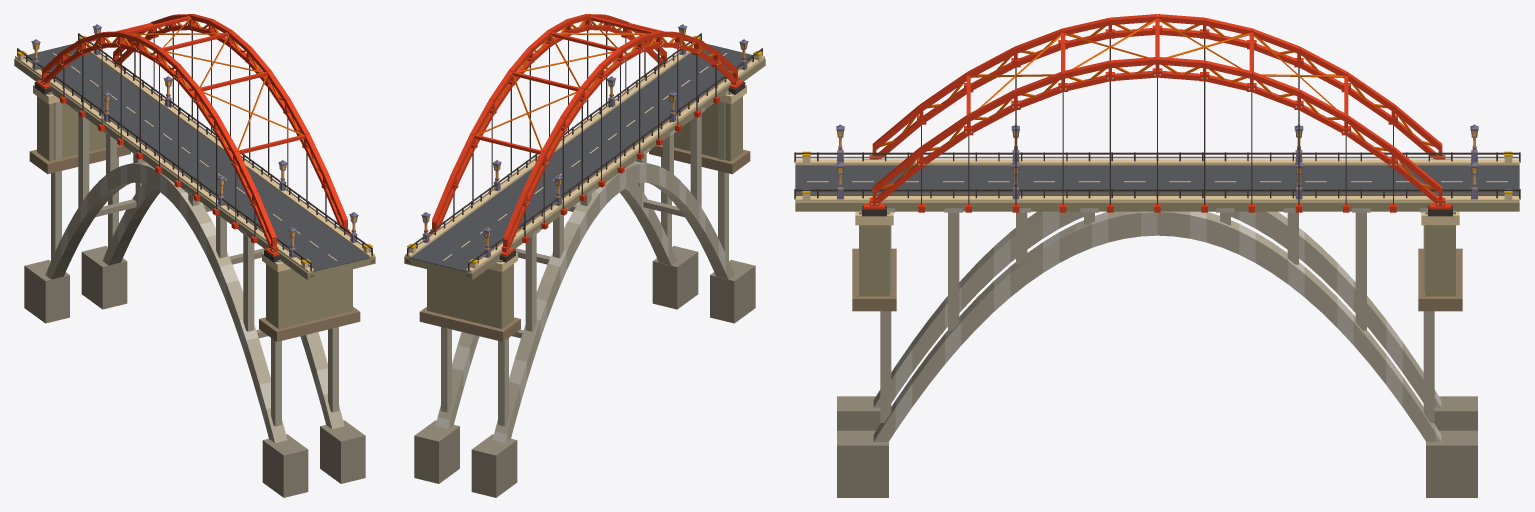
File: 朱红大桥.glb
3 renders of one model, left to right at view 1: azimuth 30°, elevation 25°; view 2: azimuth 150°, elevation 25°; view 3: azimuth 270°, elevation 25°, orthographic. The views are drawn at different scales.
Parts seen in each view (by area): view 1: Deck, Spandrel columns and crossbeams, Segmented concrete arch ribs, Foundations, South arch, North arch, Overhead bracing, Bruno pole lights; view 2: Deck, Spandrel columns and crossbeams, Segmented concrete arch ribs, Foundations, South arch, North arch, Overhead bracing, Bruno pole lights; view 3: Deck, Segmented concrete arch ribs, Spandrel columns and crossbeams, North arch, South arch, Foundations, Overhead bracing, Bruno pole lights.
Boxes of the visible parts, bbox=[...] form: Deck: bbox=[14, 33, 375, 280]; Spandrel columns and crossbeams: bbox=[24, 90, 365, 497]; Segmented concrete arch ribs: bbox=[45, 161, 344, 442]; Foundations: bbox=[29, 66, 360, 341]; South arch: bbox=[40, 31, 278, 252]; North arch: bbox=[112, 14, 349, 234]; Overhead bracing: bbox=[87, 16, 305, 154]; Bruno pole lights: bbox=[31, 24, 358, 257]; Deck: bbox=[404, 33, 765, 280]; Spandrel columns and crossbeams: bbox=[414, 90, 755, 497]; Segmented concrete arch ribs: bbox=[435, 161, 734, 442]; Foundations: bbox=[419, 66, 750, 341]; South arch: bbox=[501, 31, 739, 252]; North arch: bbox=[430, 14, 667, 234]; Overhead bracing: bbox=[474, 16, 692, 154]; Bruno pole lights: bbox=[421, 24, 748, 257]; Deck: bbox=[794, 152, 1520, 211]; Segmented concrete arch ribs: bbox=[873, 211, 1441, 441]; Spandrel columns and crossbeams: bbox=[837, 208, 1477, 497]; North arch: bbox=[869, 57, 1445, 212]; South arch: bbox=[869, 14, 1445, 159]; Foundations: bbox=[852, 159, 1462, 311]; Overhead bracing: bbox=[966, 17, 1348, 114]; Bruno pole lights: bbox=[836, 124, 1478, 199].
Bounding box in the file's own units: 10.5 × 42.54 × 64.13.
